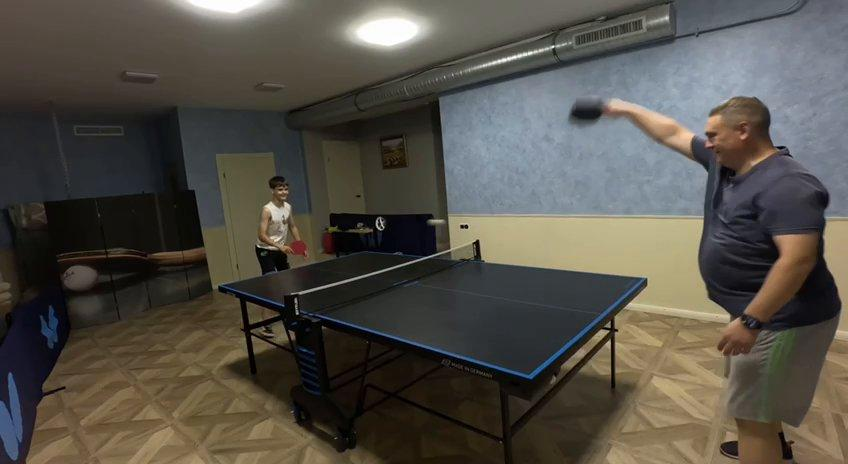Ball: (427, 218, 449, 228)
Net: (285, 241, 482, 320)
Player1: (255, 176, 300, 272)
Player2: (605, 94, 840, 463)
Table: (232, 249, 646, 377)
